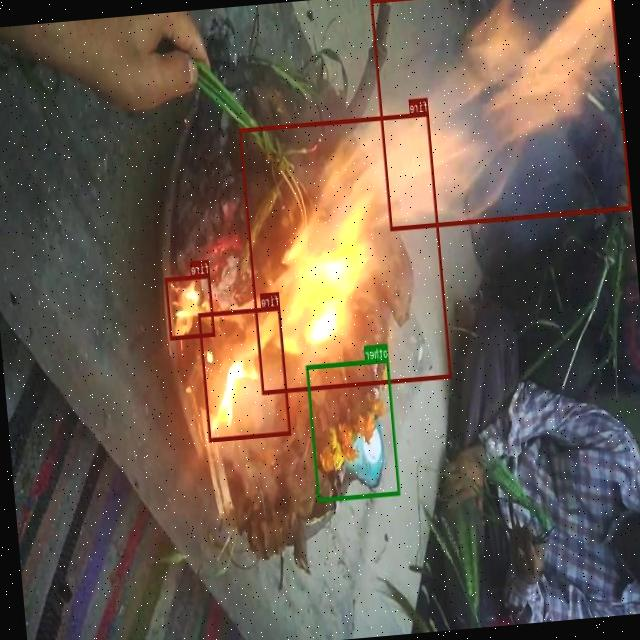fire: (239, 110, 452, 394), (371, 0, 631, 229), (198, 306, 292, 441), (165, 273, 215, 340)
